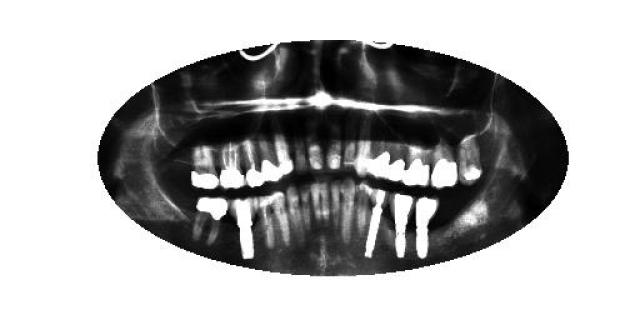Fillings: (192, 196, 228, 244), (190, 146, 221, 188), (432, 138, 458, 188), (404, 139, 430, 185), (460, 138, 484, 184), (260, 134, 280, 184), (370, 128, 389, 178), (385, 140, 405, 182)
Implant: (230, 196, 259, 260), (364, 189, 390, 260), (412, 195, 440, 259), (388, 191, 413, 259), (220, 140, 246, 189), (245, 135, 264, 189)
